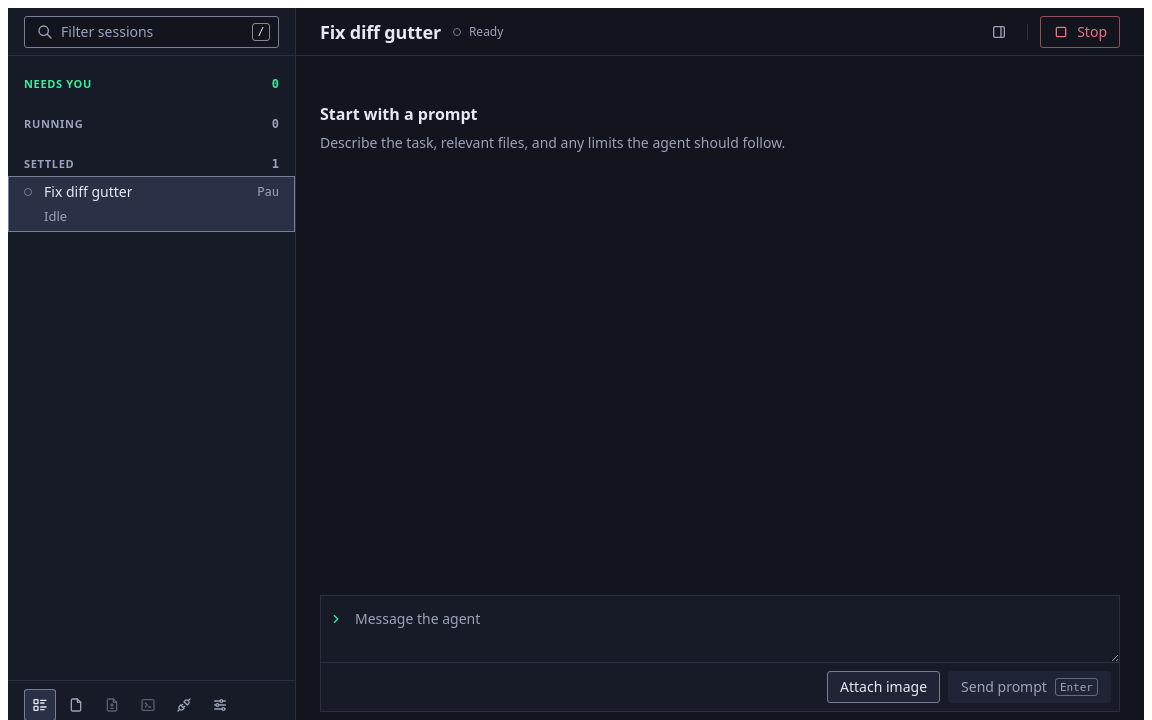
Test case: keeps the draft and explains when the session cannot run shell commands
Type "!ls" into the text box named "Prompt".
click(731, 629); type("!ls")  # box [343, 596, 1119, 662]
Then press Enter
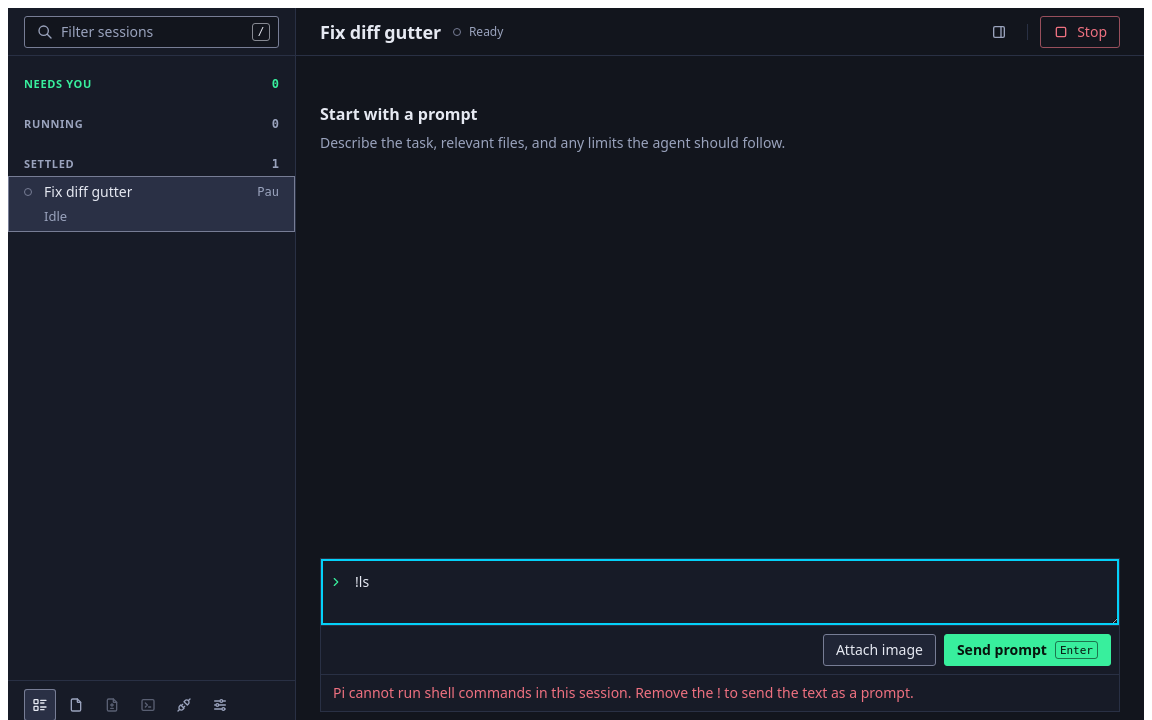
Expected: the message shows "Pi cannot run shell commands in this session.", [333, 683, 914, 702]
